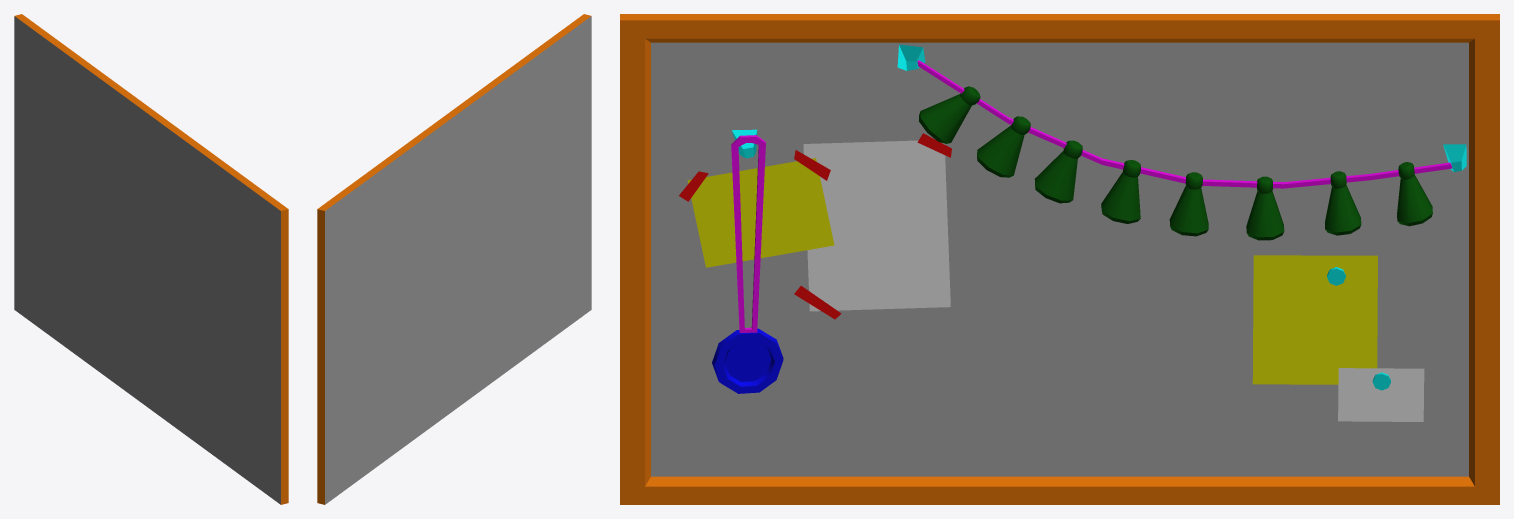
The model's file is BedRoom_NoteBoard.fbx.
The picture shows the model from 3 angles, left to right: view 1: azimuth 30°, elevation 25°; view 2: azimuth 150°, elevation 25°; view 3: azimuth 270°, elevation 25°; orthographic projection. The views are drawn at different scales.
Visible parts, largest first — view 1: BedRoom_NoteBoard; view 2: BedRoom_NoteBoard; view 3: BedRoom_NoteBoard.
Boxes of the visible parts, x1=… form: BedRoom_NoteBoard: x1=14, y1=14, x2=288, y2=504; BedRoom_NoteBoard: x1=317, y1=14, x2=591, y2=504; BedRoom_NoteBoard: x1=620, y1=14, x2=1499, y2=504.
Bounding box in the file's own units: 10.77 × 124 × 203.
